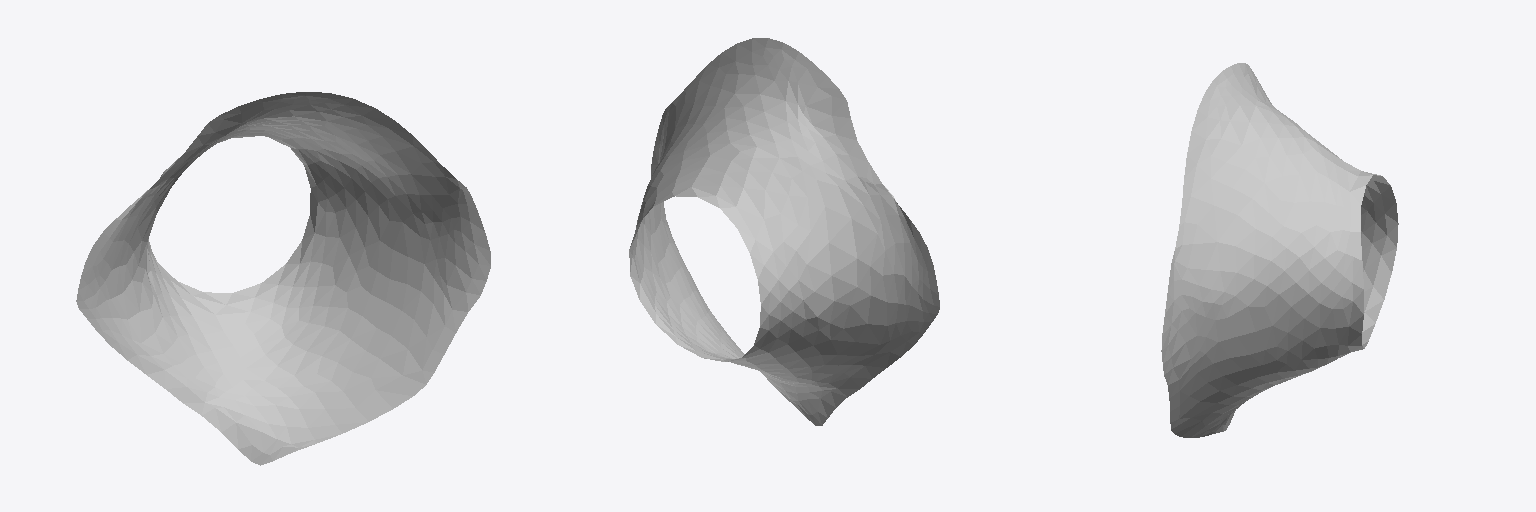
Rendered from flower3_opt_deformed.obj.
3 views of the same model, side by side, from view 1: azimuth 30°, elevation 25°; view 2: azimuth 150°, elevation 25°; view 3: azimuth 270°, elevation 25° (orthographic).
Visible parts, largest first — view 1: samples/flower3_opt_deformed; view 2: samples/flower3_opt_deformed; view 3: samples/flower3_opt_deformed.
Part boxes in pixels (left/top/right/bottom): samples/flower3_opt_deformed: left=76, top=92, right=490, bottom=465; samples/flower3_opt_deformed: left=629, top=38, right=939, bottom=425; samples/flower3_opt_deformed: left=1161, top=63, right=1398, bottom=437.
Bounding box in the file's own units: 17.09 × 17.14 × 9.97.